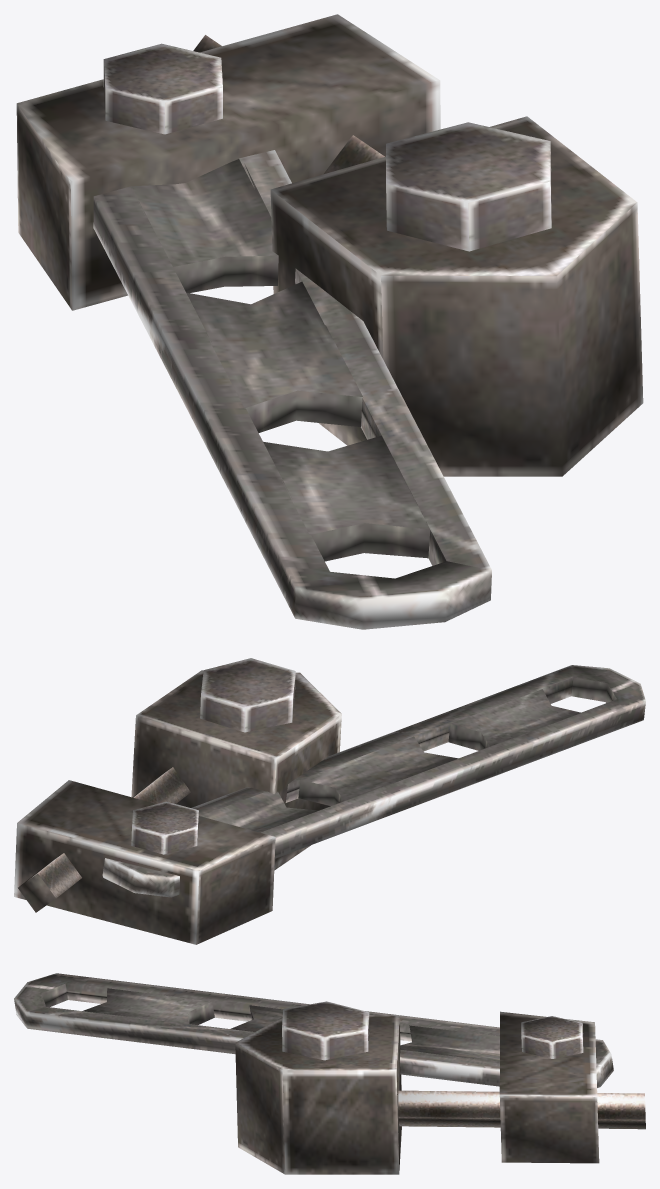
Rendered from Robot01.LeftForeArm3.fbx.
The picture shows the model from 3 angles, top to bottom: view 1: azimuth 30°, elevation 25°; view 2: azimuth 150°, elevation 25°; view 3: azimuth 270°, elevation 25°; orthographic projection. The views are drawn at different scales.
Parts seen in each view (by area): view 1: Robot.023; view 2: Robot.023; view 3: Robot.023.
Part boxes in pixels (left/top/right/bottom): Robot.023: left=16, top=14, right=643, bottom=629; Robot.023: left=14, top=658, right=645, bottom=944; Robot.023: left=14, top=973, right=645, bottom=1174.
Bounding box in the file's own units: 33.25 × 14.06 × 61.64.
